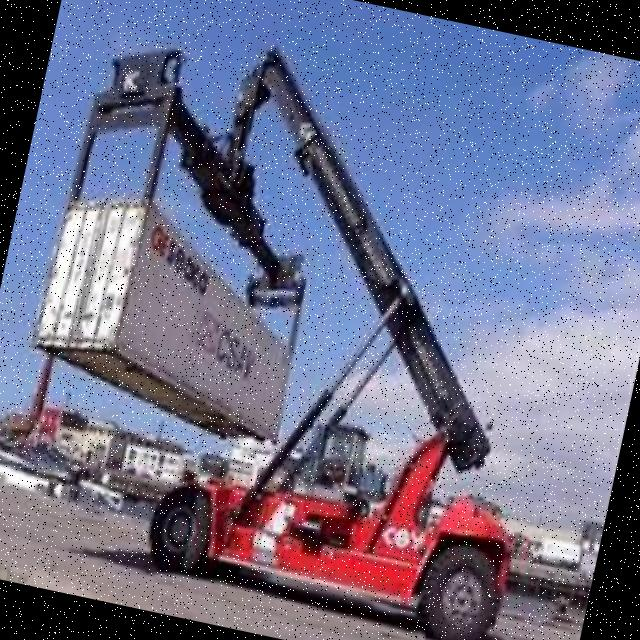Mobile Crane: (134, 45, 601, 640)
